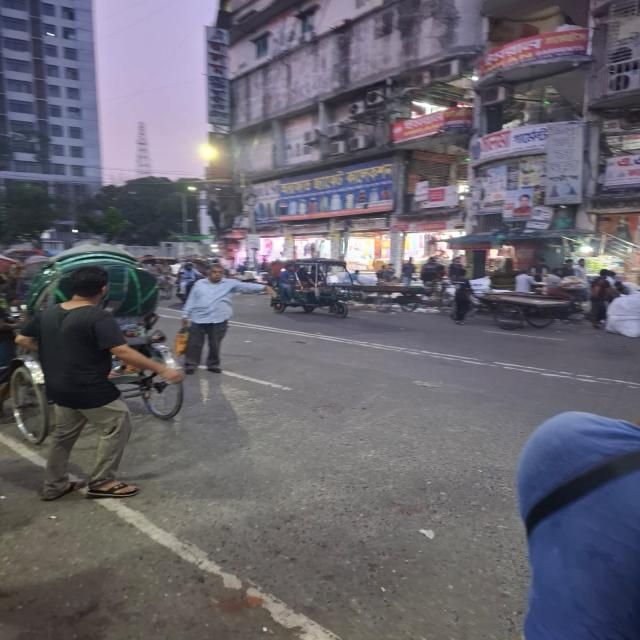person: (182, 264, 275, 374)
